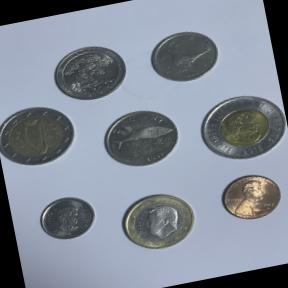1 Euro-B: (108, 181, 204, 258)
2 Euro-B: (0, 97, 83, 177)
Canada-10cent-B: (32, 189, 102, 248)
Canada-2Dollar-B: (185, 78, 288, 172)
Croatia-2Kune-B: (90, 97, 188, 181)
US-1cent-B: (208, 163, 286, 228)
US-25cent-B: (47, 37, 134, 108)
